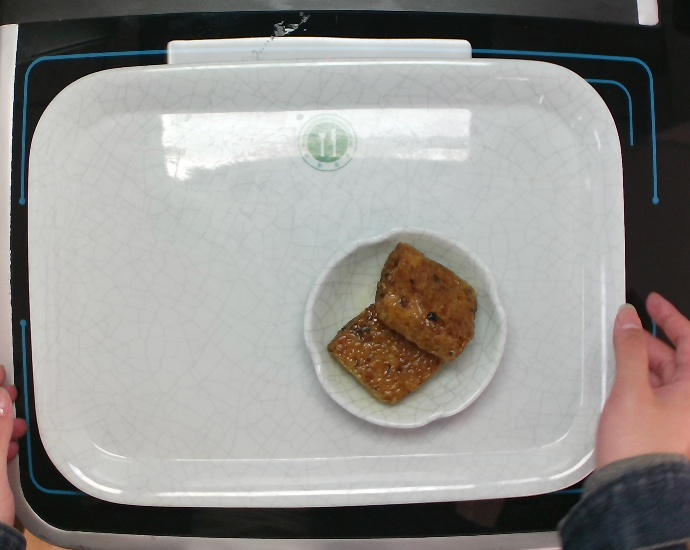JYsf-Ao_Yuan_Wan: (300, 224, 509, 431)
